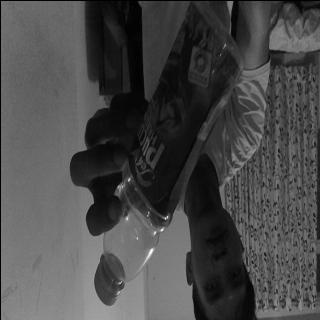plastic_bottles: (91, 0, 242, 307)
